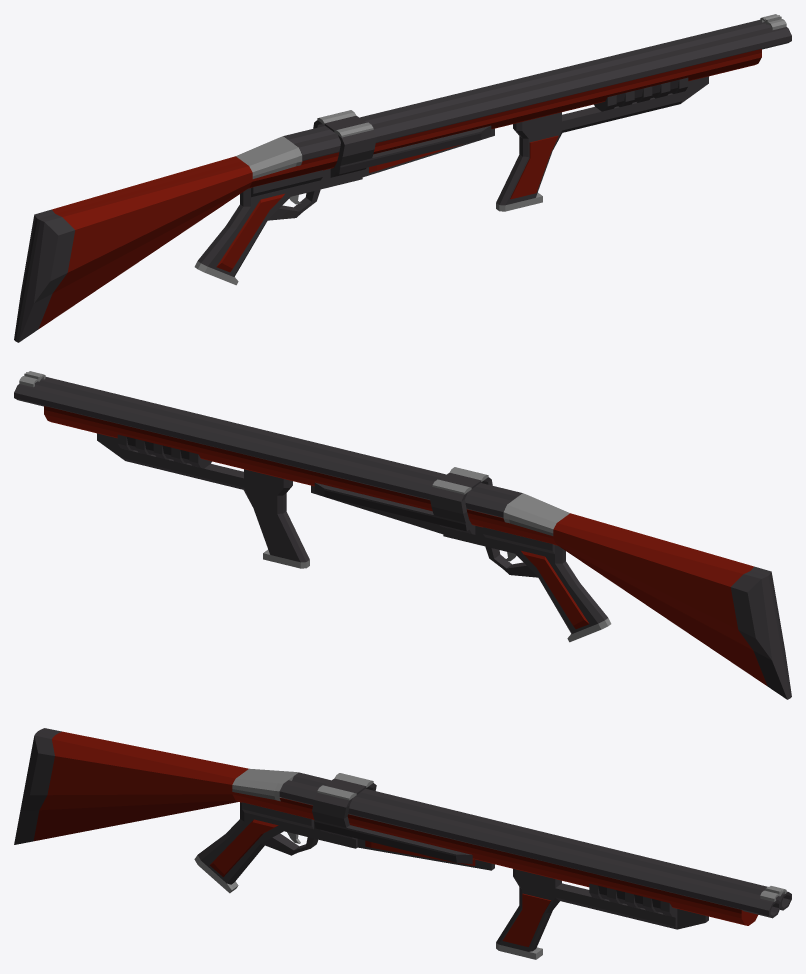
The model's file is Escopeta.fbx.
3 views of the same model, one above another, from view 1: azimuth 30°, elevation 25°; view 2: azimuth 150°, elevation 25°; view 3: azimuth 330°, elevation 25° (orthographic).
Parts seen in each view (by area): view 1: Cube.075; view 2: Cube.075; view 3: Cube.075.
Boxes of the visible parts, x1,y1,x2,y2 form: Cube.075: (14,14,791,342); Cube.075: (14,371,791,699); Cube.075: (14,728,791,959).
Size of the model in its own units: 1.09 by 0.1902 by 0.0755.
